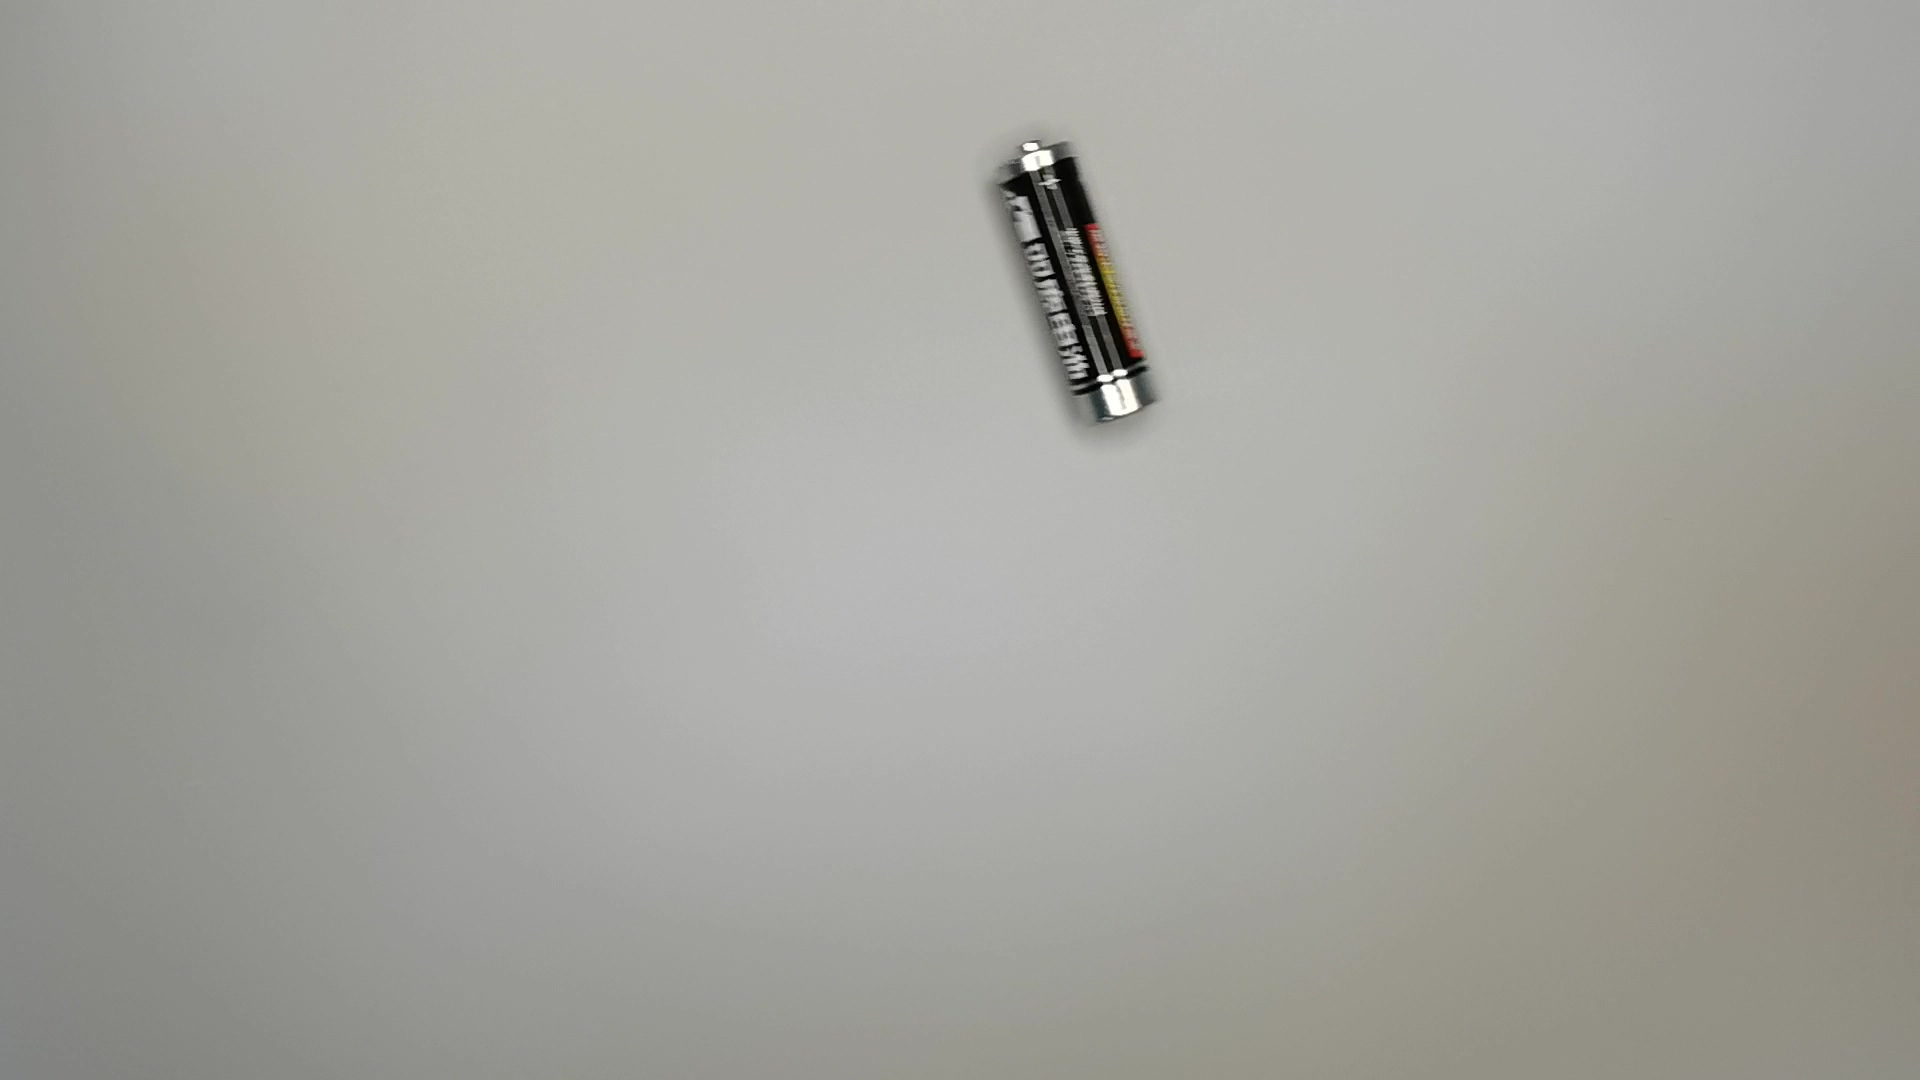battery: (992, 119, 1160, 436)
